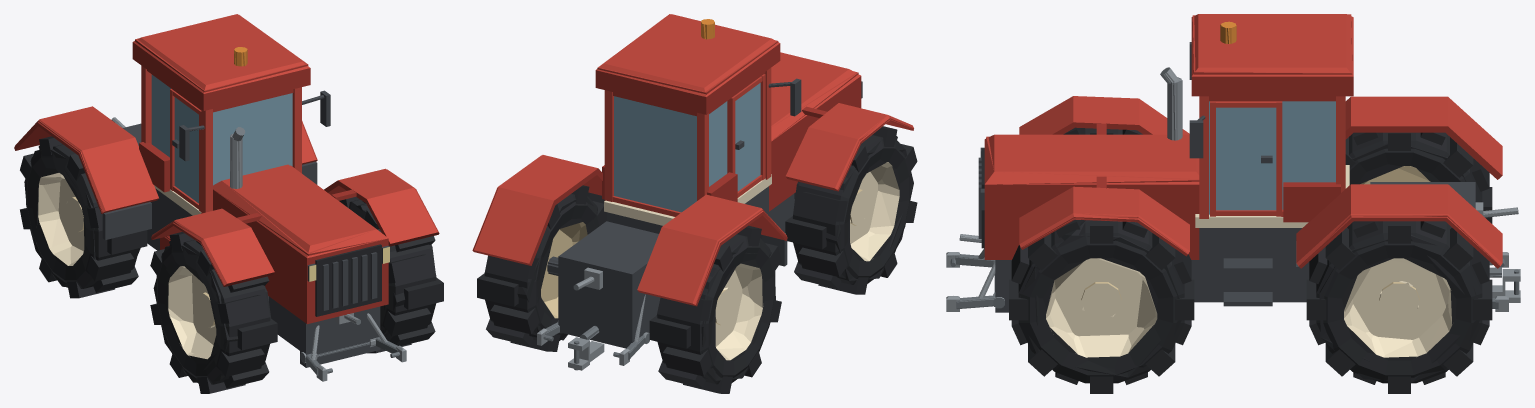
Rendered from FMS_Mach_Tractor_Large.fbx.
3 renders of one model, left to right at view 1: azimuth 30°, elevation 25°; view 2: azimuth 150°, elevation 25°; view 3: azimuth 270°, elevation 25°, orthographic. The views are drawn at different scales.
Parts seen in each view (by area): view 1: Body, Body_Low1, Wheel_FR, Wheel_RR, Wheel_FL, Wheel_RR_Low1, Wheel_FR_Low1, Linkage_Front, Wheel_FL_Low1, Linkage_Front_Low1; view 2: Body, Body_Low1, Wheel_FR, Wheel_RR, Wheel_RL, Wheel_FR_Low1, Wheel_RR_Low1, Wheel_RL_Low1, Linkage_Rear; view 3: Body, Wheel_RL, Wheel_FL, Body_Low1, Door_L, Wheel_FL_Low1, Wheel_RL_Low1, Wheel_RR, Linkage_Front, Wheel_RR_Low1, Linkage_Rear, Linkage_Front_Low1.
Part boxes in pixels (<box>): Body: <box>14,14,439,367</box>; Body_Low1: <box>15,14,406,367</box>; Wheel_FR: <box>150,232,277,393</box>; Wheel_RR: <box>20,136,147,298</box>; Wheel_FL: <box>339,197,443,353</box>; Wheel_RR_Low1: <box>20,137,147,298</box>; Wheel_FR_Low1: <box>152,232,277,393</box>; Linkage_Front: <box>300,313,406,381</box>; Wheel_FL_Low1: <box>343,197,443,353</box>; Linkage_Front_Low1: <box>300,314,406,381</box>; Body: <box>472,14,913,370</box>; Body_Low1: <box>472,14,912,369</box>; Wheel_FR: <box>785,126,917,294</box>; Wheel_RR: <box>649,225,781,393</box>; Wheel_RL: <box>477,185,606,351</box>; Wheel_FR_Low1: <box>785,128,916,294</box>; Wheel_RR_Low1: <box>649,226,781,393</box>; Wheel_RL_Low1: <box>477,185,606,351</box>; Linkage_Rear: <box>537,276,649,365</box>; Body: <box>978,14,1520,312</box>; Wheel_RL: <box>1306,221,1492,393</box>; Wheel_FL: <box>1009,219,1194,393</box>; Body_Low1: <box>984,14,1514,312</box>; Door_L: <box>1210,101,1282,216</box>; Wheel_FL_Low1: <box>1009,220,1194,384</box>; Wheel_RL_Low1: <box>1306,221,1492,384</box>; Wheel_RR: <box>1345,132,1492,223</box>; Linkage_Front: <box>946,234,1004,311</box>; Wheel_RR_Low1: <box>1352,132,1492,222</box>; Linkage_Rear: <box>1483,207,1518,311</box>; Linkage_Front_Low1: <box>946,235,1004,311</box>.
Bounding box in the file's own units: 2.91 × 3.5 × 5.88.
